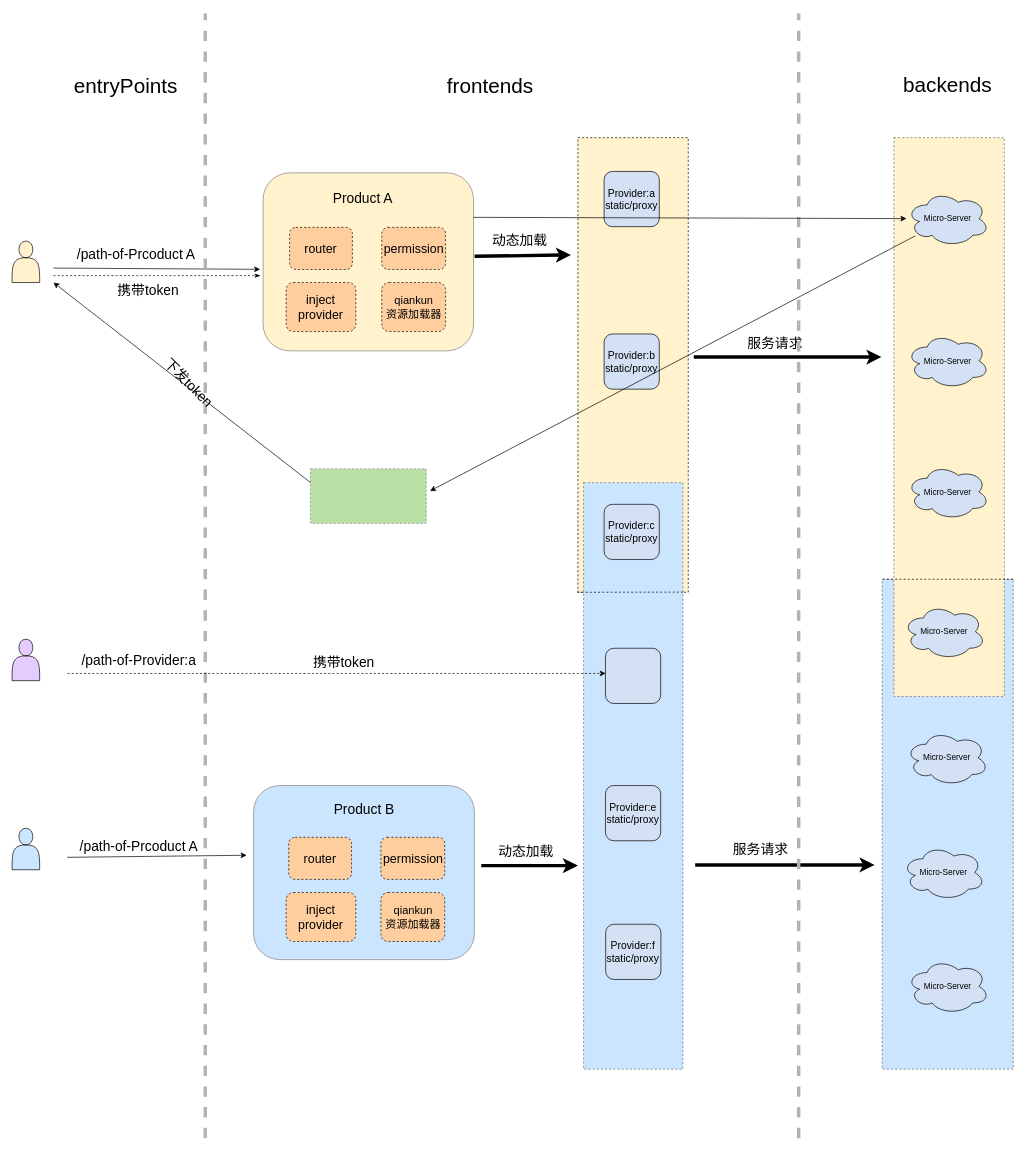
Some shapes in this 1026 by 1152 pixel diagram are drawn without their labels. Here are the shapes that lost their labels. From the top down, the centre of each, then its label:
the point at 368,495: 鉴权
the point at 633,675: Provider:d static/proxy
